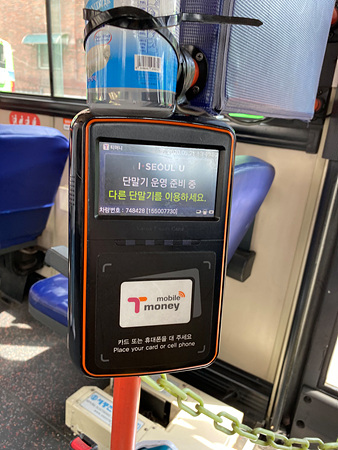terminal: (77, 110, 223, 373)
